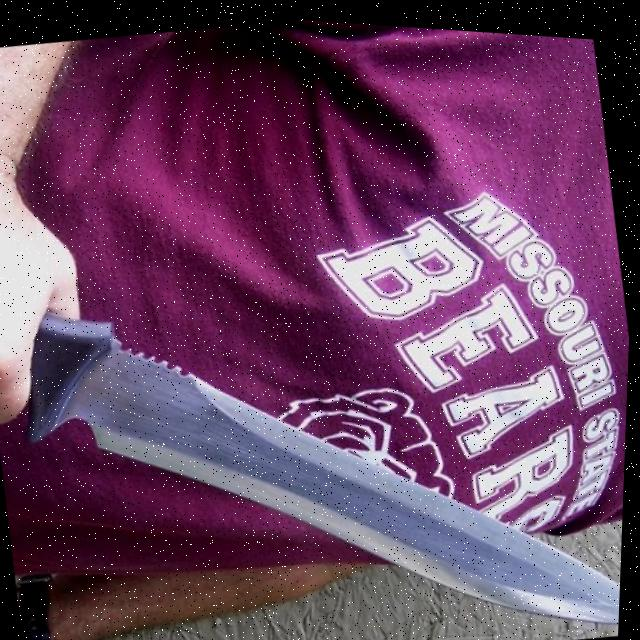knife: (0, 199, 634, 640)
